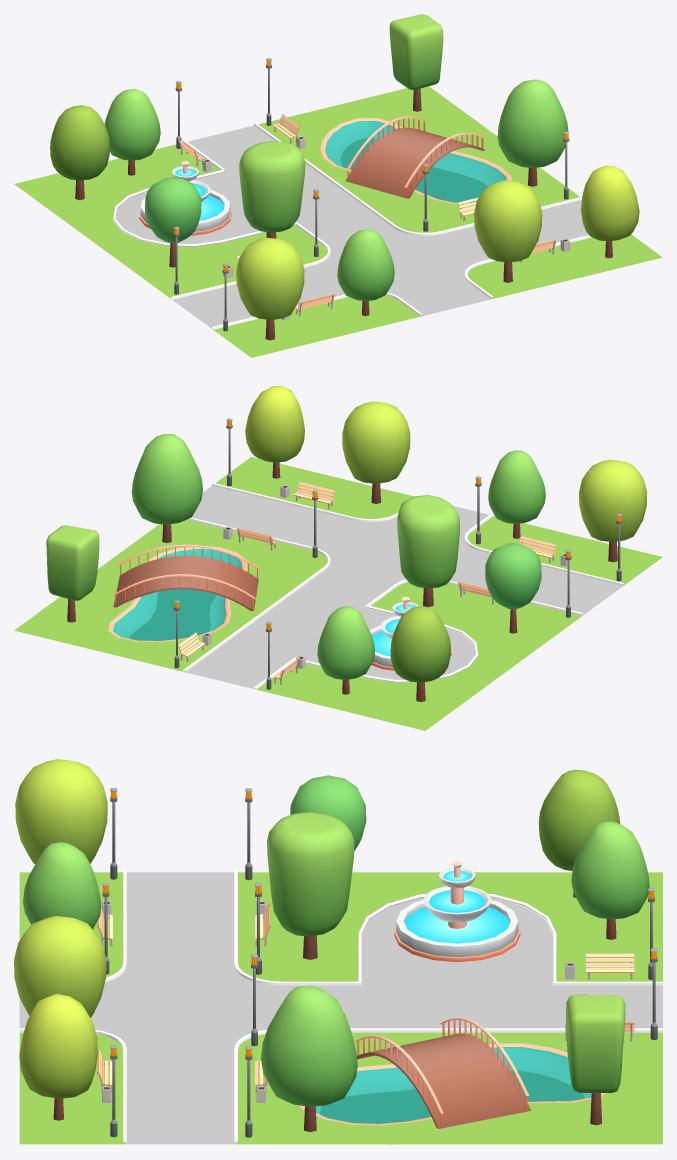
Rendered from Entertainment_Park_02.glb.
3 renders of one model, top to bottom at view 1: azimuth 30°, elevation 25°; view 2: azimuth 150°, elevation 25°; view 3: azimuth 270°, elevation 25°, orthographic. The views are drawn at different scales.
Parts seen in each view (by area): view 1: Entertainment_Park_02; view 2: Entertainment_Park_02; view 3: Entertainment_Park_02.
Part boxes in pixels (left/top/right/bottom): Entertainment_Park_02: left=14, top=14, right=662, bottom=357; Entertainment_Park_02: left=14, top=386, right=662, bottom=730; Entertainment_Park_02: left=14, top=759, right=662, bottom=1145.
Bounding box in the file's own units: 30.57 × 8.07 × 30.26.
Materials: 3 (3 with a texture image).
